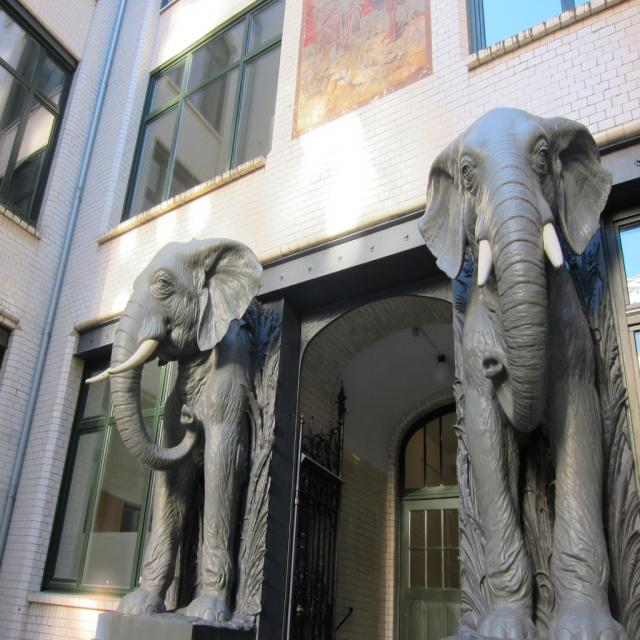elephant: (420, 113, 639, 639), (83, 235, 293, 637)
